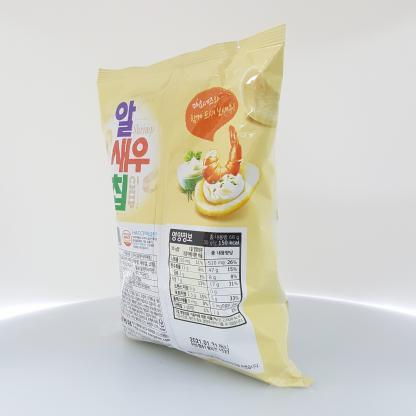Plastic Packaging: (86, 16, 322, 392)
